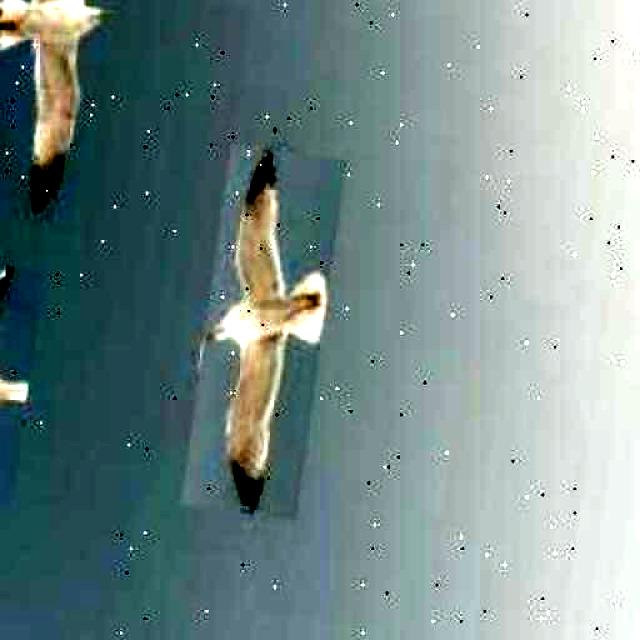airplane: (182, 144, 346, 520), (0, 0, 142, 222), (0, 258, 44, 539)
